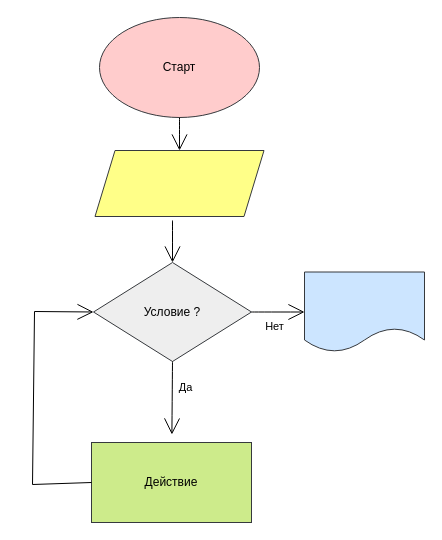
This 442x540 diagram has some shape labels left out. The centre of each missing label's shape, as x and y in pixels:
Ввод данных: the point at 179,183
Вывод: the point at 364,311
